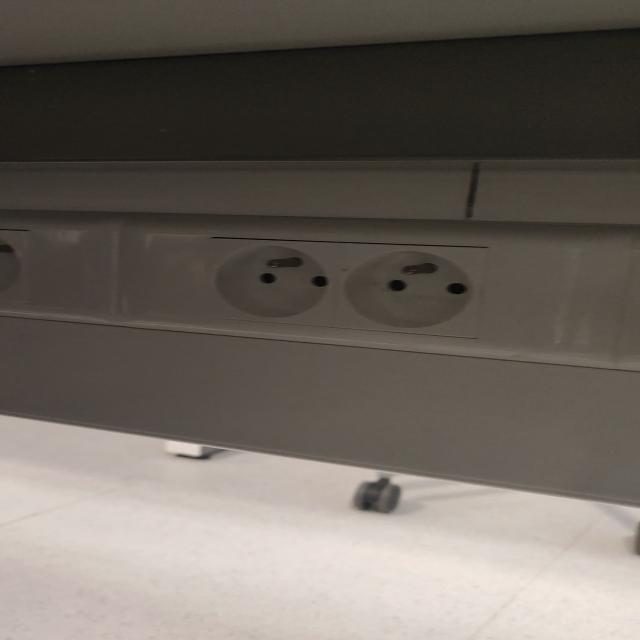house plug: (336, 242, 489, 336), (204, 235, 338, 328)
